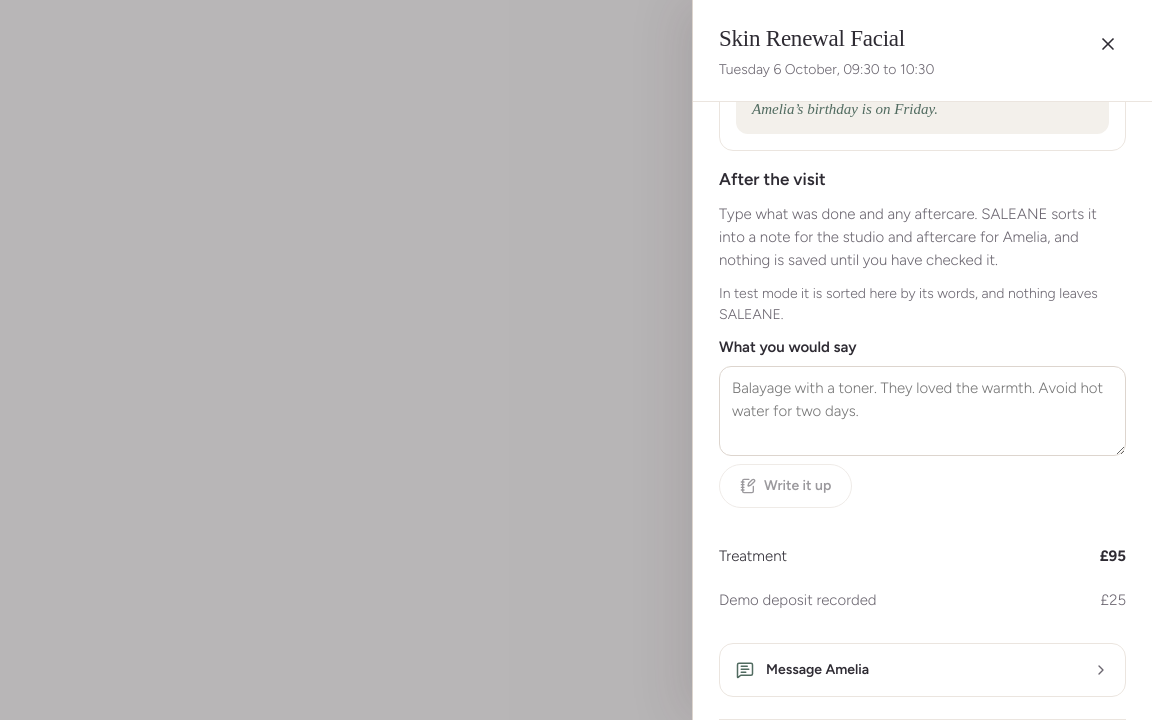
Scenario: reception writes up a visit the guest has arrived for, and it saves with a note
(page scrolled)
Step 1. Type "Facial with a calming mask. Drink plenty of water today." into the text box labelled "What you would say" → (922, 411), box left=719, top=366, right=1126, bottom=456
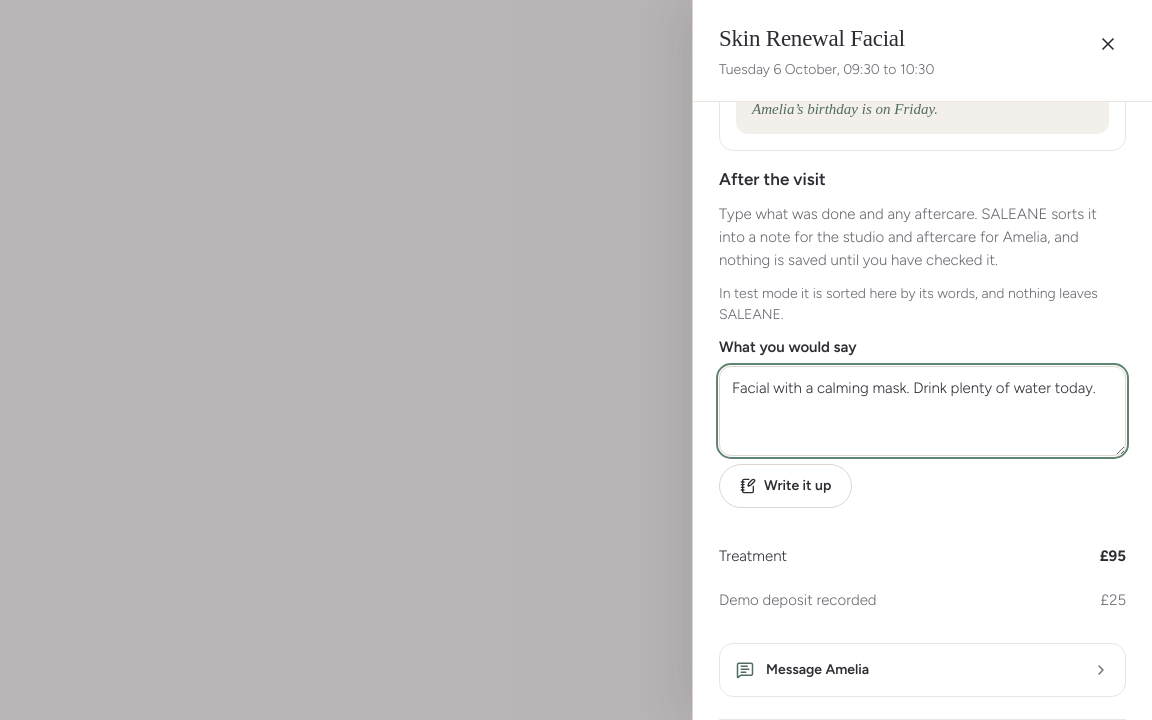
Step 2. Click the button "Write it up" → (786, 486), box left=719, top=464, right=852, bottom=508
(page scrolled)
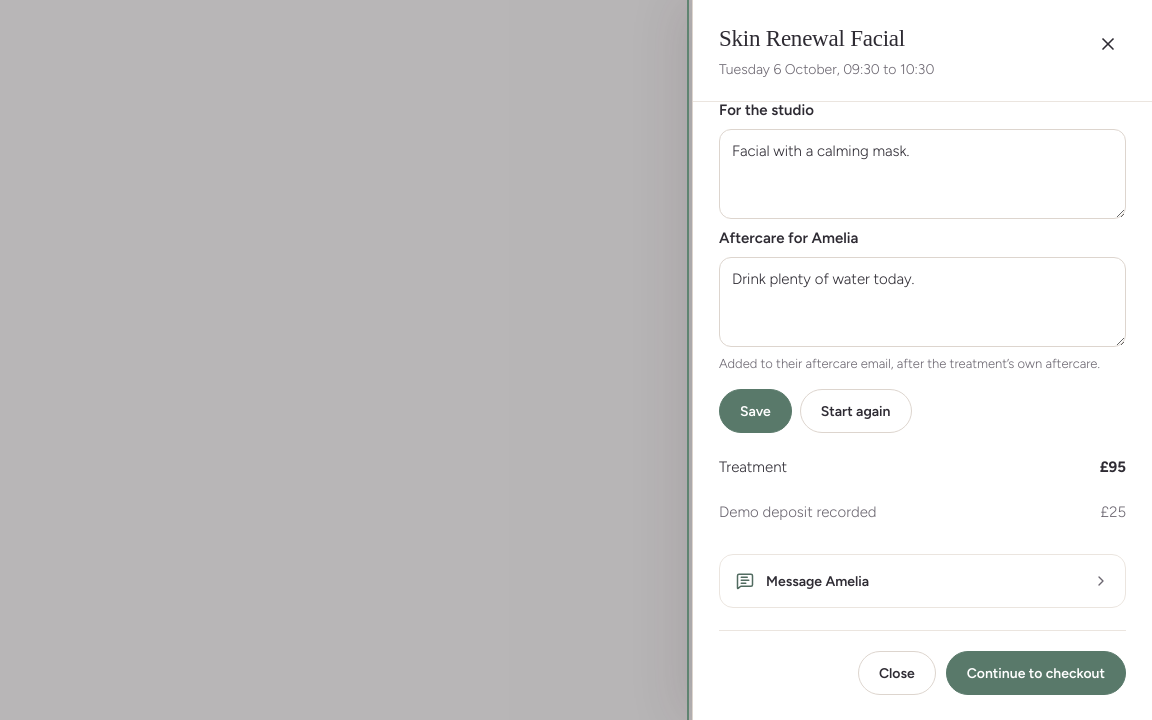
Check: the text box labelled "Aftercare for Amelia" holds "Drink plenty of water today.", box left=719, top=257, right=1126, bottom=347
Step 3. Click the button "Save" → (755, 411), box left=719, top=389, right=792, bottom=433
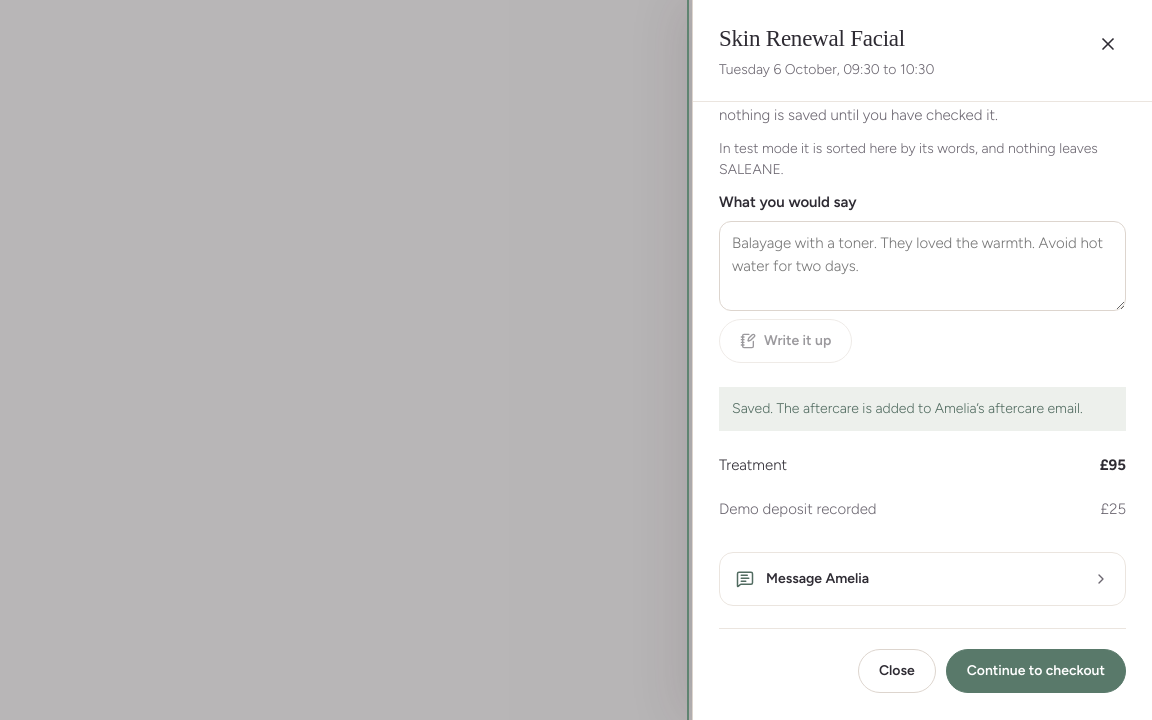
Check: the text "Saved. The aftercare is added to Amelia’s aftercare email." is shown, box left=719, top=387, right=1126, bottom=431
